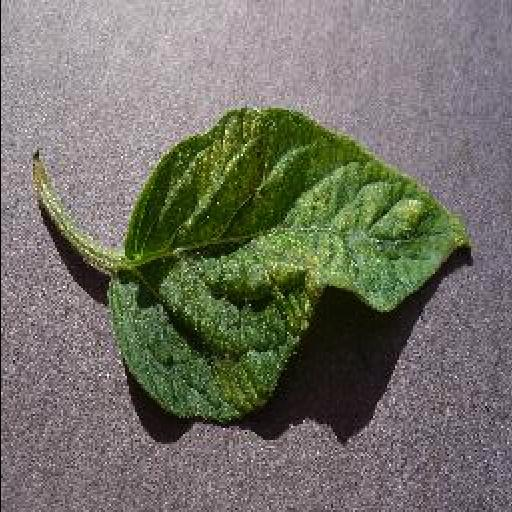disease_tomato: (106, 107, 468, 421)
